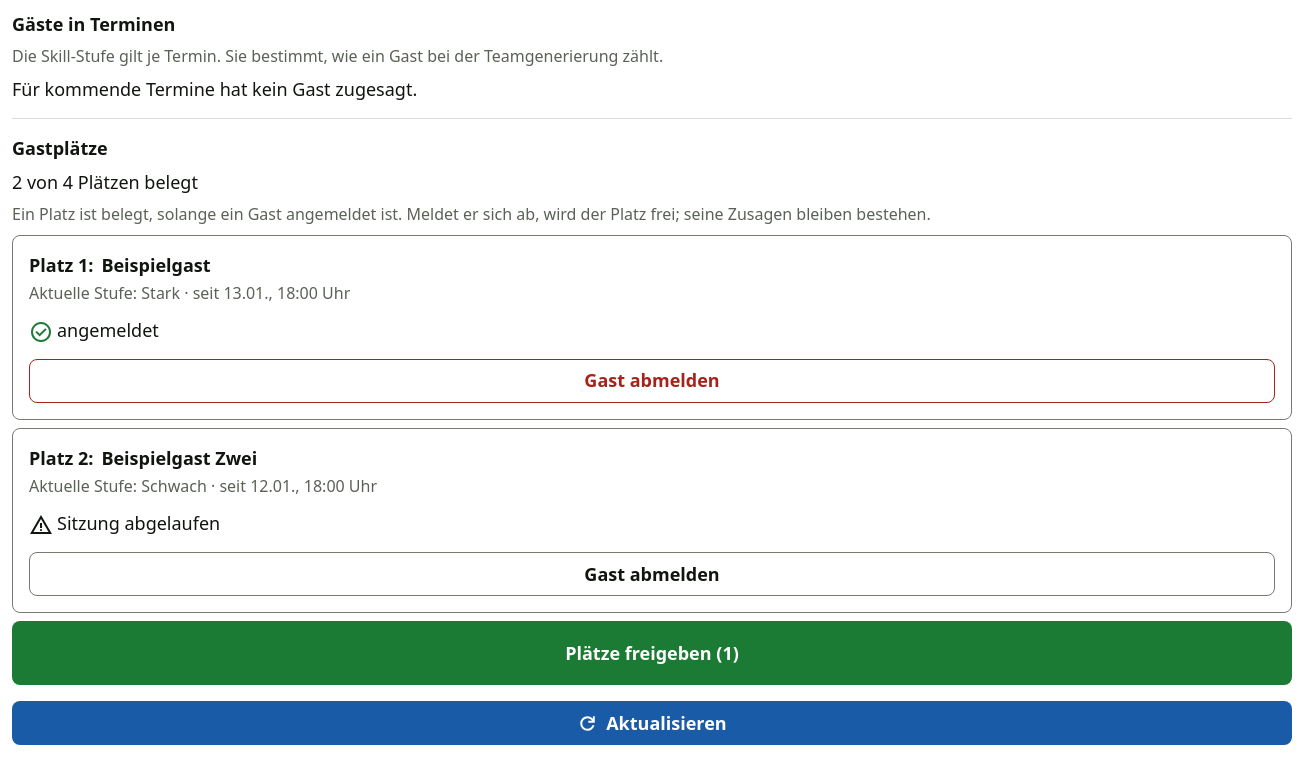
Test case: AdminGaeste – Anzeige › „Aktualisieren“ liest neu (zweiter Abruf, weiterhin ohne Kopf)
This screenshot has width=1304, height=761.
(page scrolled)
Check: the list item with test id "admin-gast-1" is shown, box [12,234,1292,420]
Step 1. Click the button with test id "admin-gaeste-aktualisieren" → [652, 723], box [12,701,1292,745]
(page scrolled)
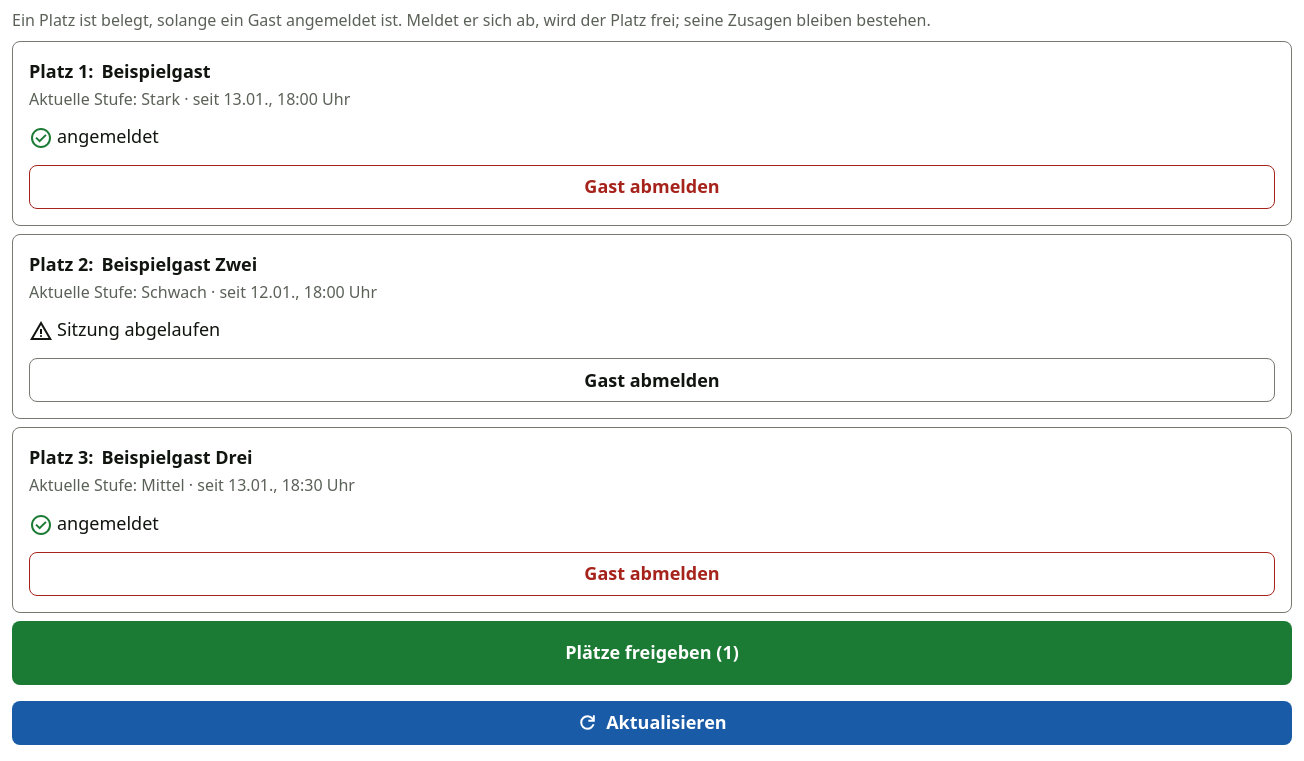
Check: the list item with test id "admin-gast-3" is shown, box [12,427,1292,613]
